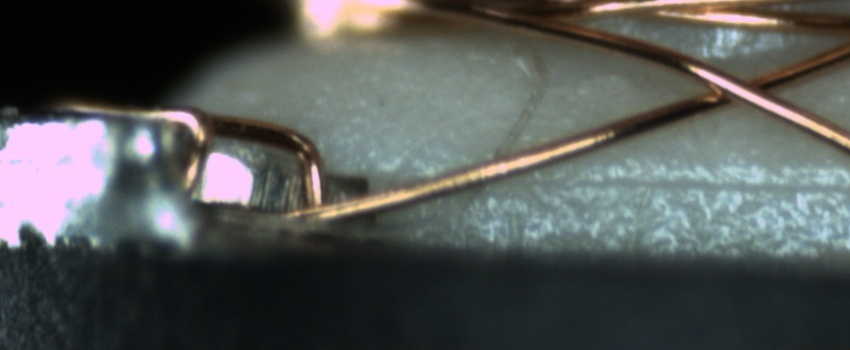CL: (680, 62, 802, 114)
DL: (556, 155, 849, 215)
TE: (57, 92, 329, 223)
